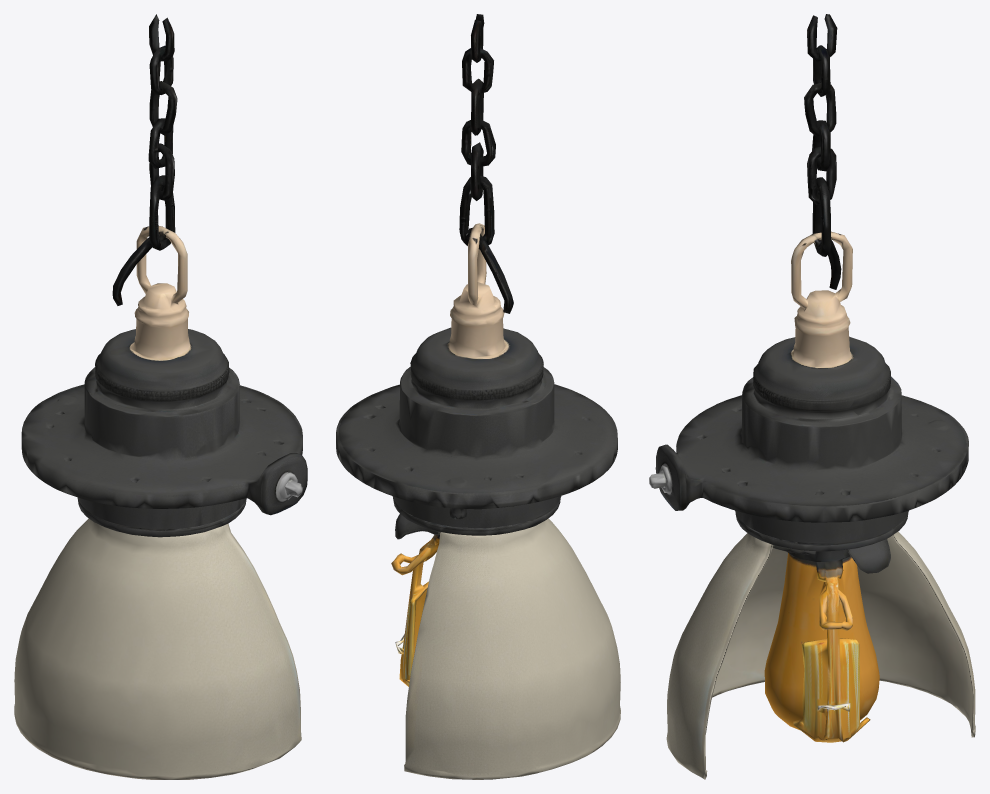
The model's file is lamp.glb.
3 renders of one model, left to right at view 1: azimuth 30°, elevation 25°; view 2: azimuth 150°, elevation 25°; view 3: azimuth 270°, elevation 25°, orthographic. The views are drawn at different scales.
Visible parts, largest first — view 1: tripo_node_47a10e15-63c0-45ac-886f-2d214cab468c; view 2: tripo_node_47a10e15-63c0-45ac-886f-2d214cab468c; view 3: tripo_node_47a10e15-63c0-45ac-886f-2d214cab468c.
Part boxes in pixels (x1,y1,x2,y2): tripo_node_47a10e15-63c0-45ac-886f-2d214cab468c: (14, 14, 307, 779); tripo_node_47a10e15-63c0-45ac-886f-2d214cab468c: (336, 14, 620, 779); tripo_node_47a10e15-63c0-45ac-886f-2d214cab468c: (649, 14, 975, 779).
Size of the model in its own units: 0.1846 by 0.5 by 0.2044.
1 material, 1 textured.
